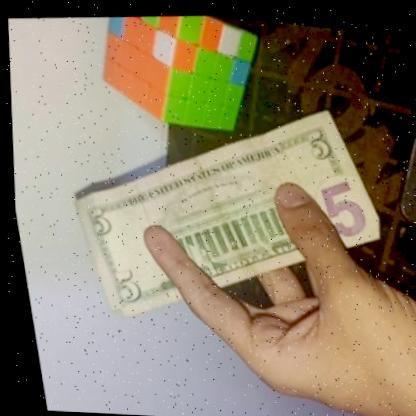five-back: (45, 74, 401, 348)
